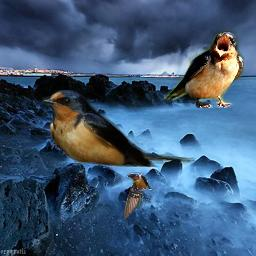Swallow: (41, 90, 197, 167), (164, 31, 244, 108), (123, 172, 153, 219)
